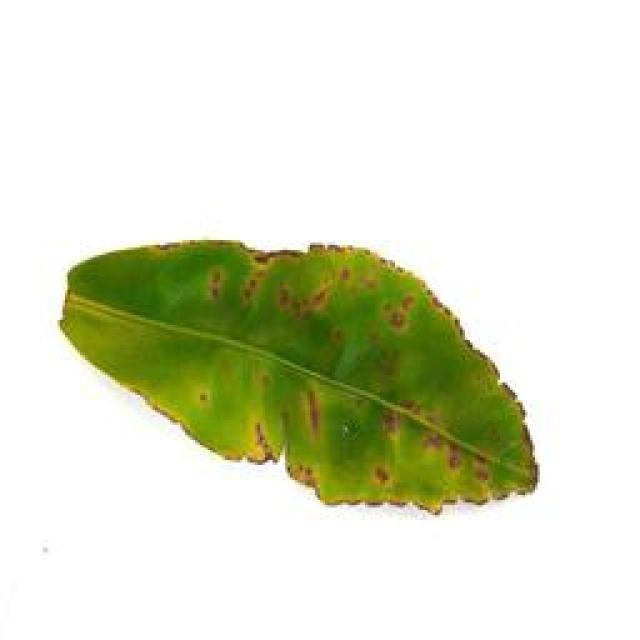Helopeltis: (43, 212, 542, 520)
